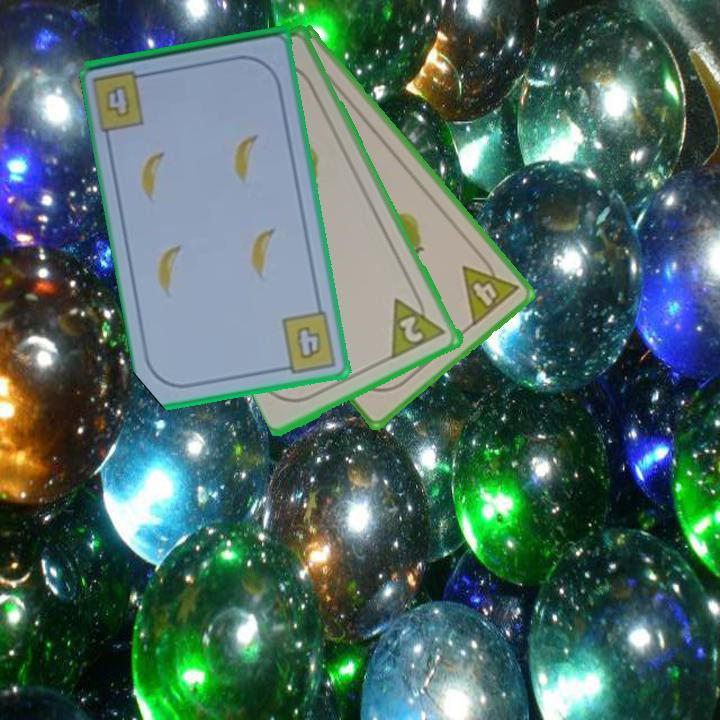2p: (387, 286, 449, 362)
4b: (276, 308, 340, 376), (102, 81, 134, 121)
4p: (458, 249, 522, 329)
